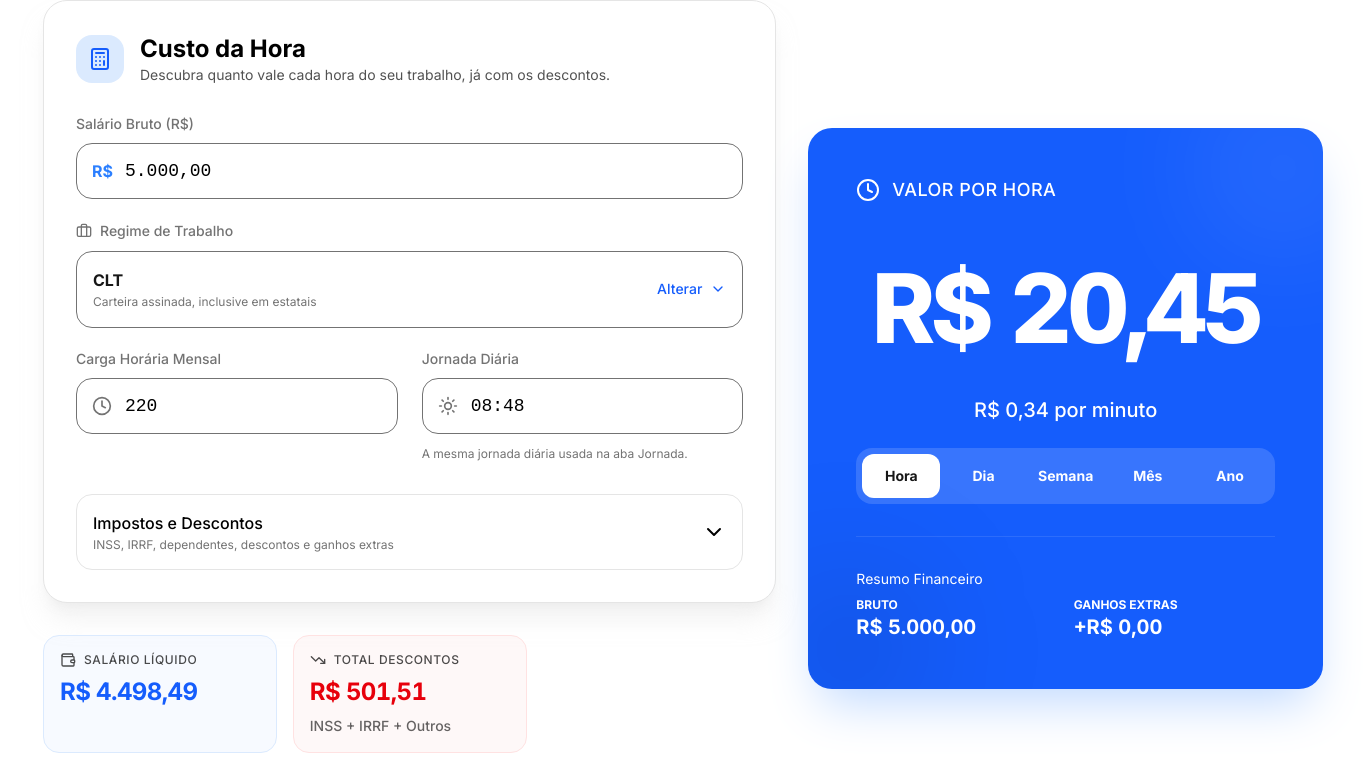
SalaryCalculator › counts thirteen paid months in the yearly view
Click the radio button labelled "Ano" at (1230, 476), box [1216, 467, 1244, 484]
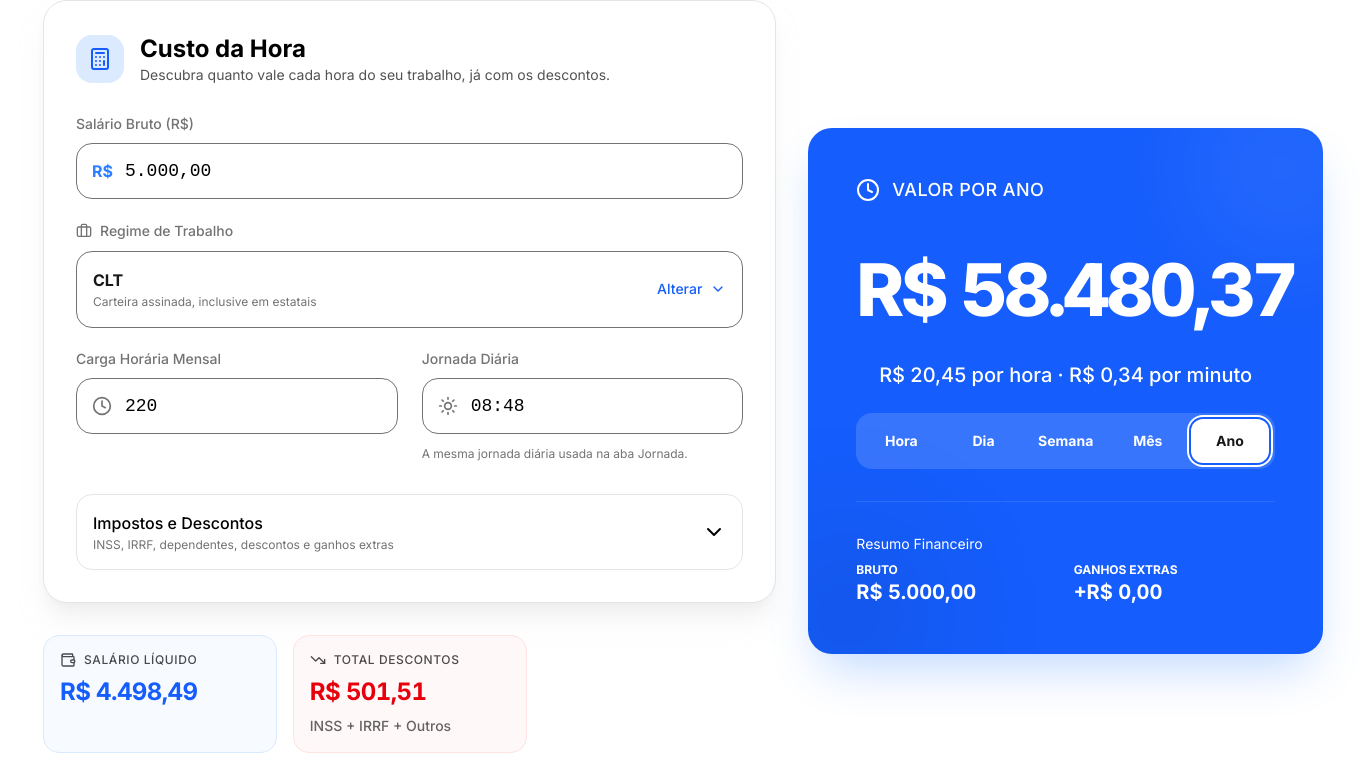
Now the text "R$ 58.480,37" is shown, box [856, 236, 1275, 345]
